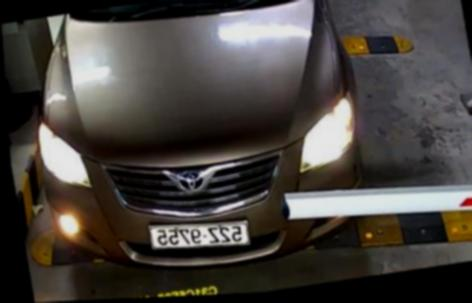License_Plate: (135, 212, 255, 263)
